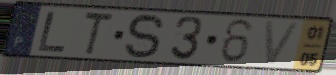3: (169, 16, 205, 63)
6: (219, 17, 255, 65)
L: (36, 10, 69, 54)
S: (122, 12, 167, 61)
T: (81, 10, 115, 58)
V: (262, 19, 304, 67)
